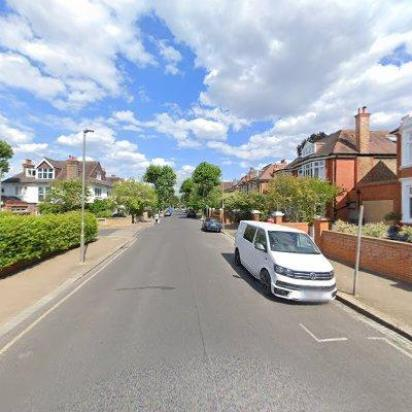stationary-car-onstreet: (202, 218, 224, 232), (187, 209, 197, 219), (164, 210, 172, 216)
stationary-light-truck-onstreet: (232, 220, 336, 302)
